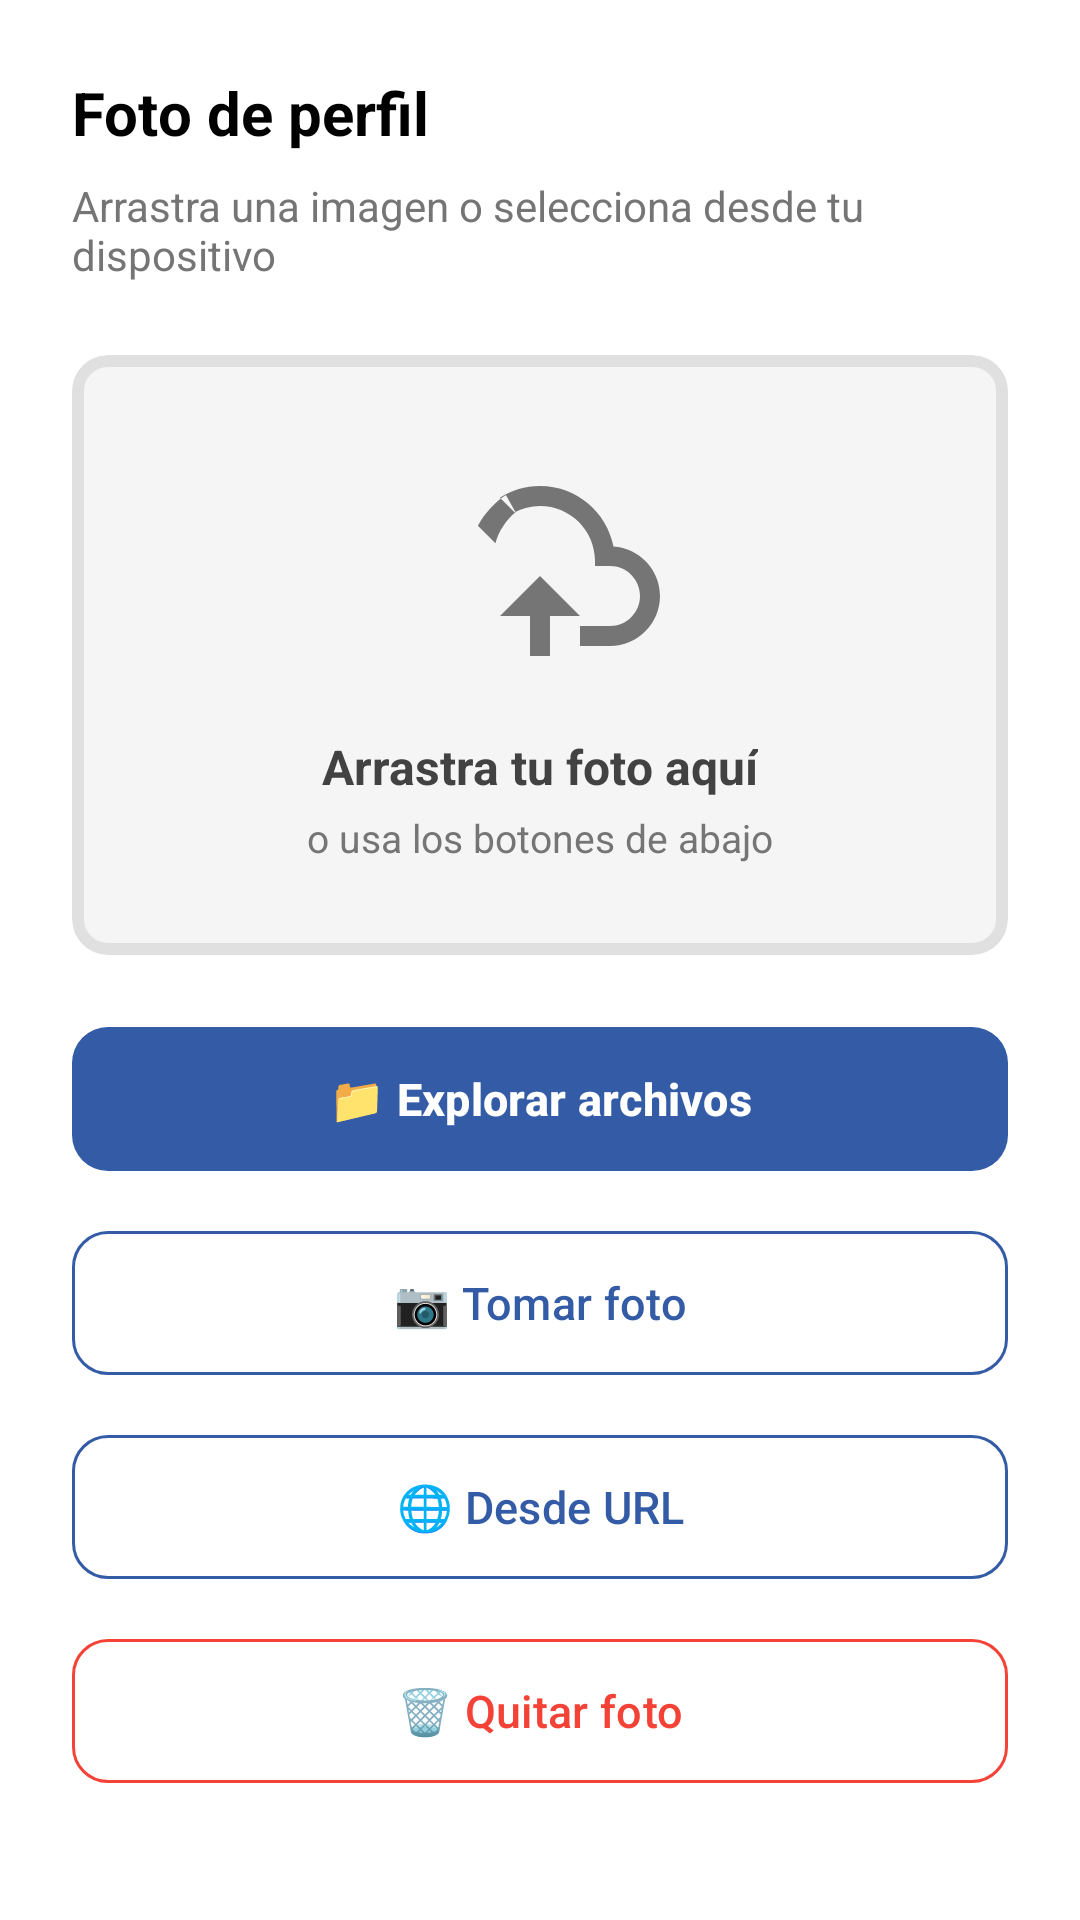

Icons on this 1080w x 1920h Android screen, each with the point to tap as (x=x, y=y):
Upload: (x=569, y=571)
